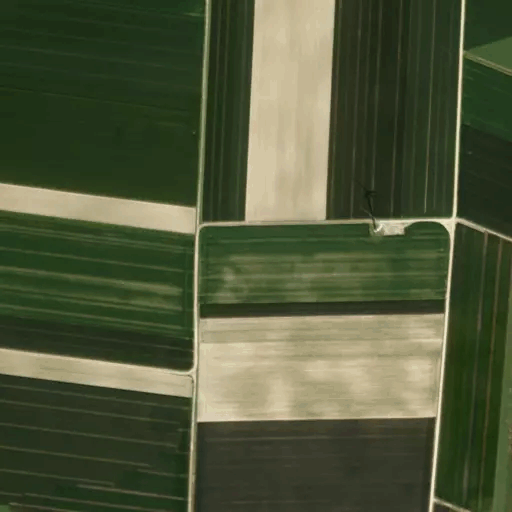wt: (348, 179, 397, 237)
